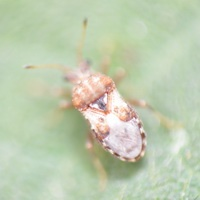insect: (24, 18, 183, 161), (67, 71, 145, 161)
